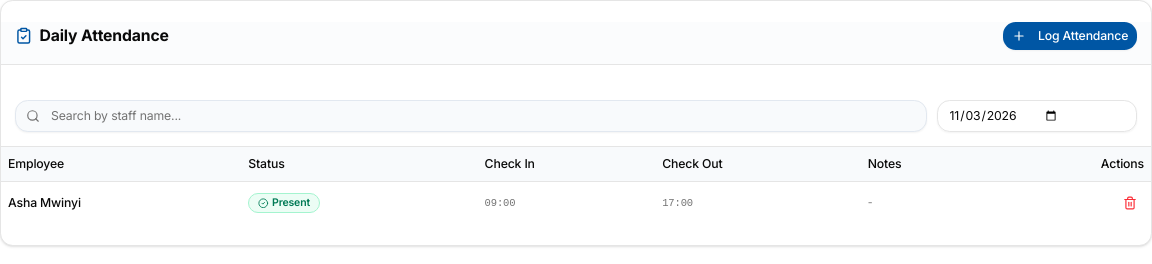
Test: HRAttendanceSubtab › deletes a record when the confirmation is accepted
Step 1. Click the 2nd button → x=1130, y=203, box [1116, 189, 1144, 217]
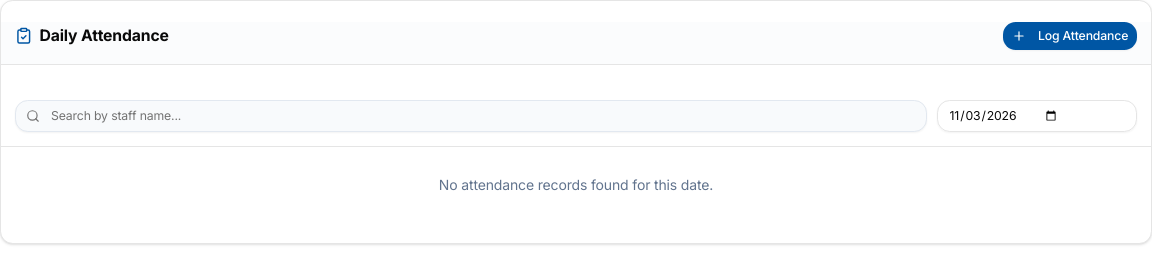
Expected: the text "Asha Mwinyi" is gone
